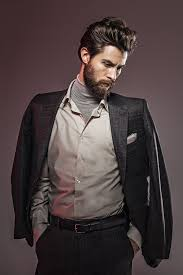F_W_suit jacket: (12, 89, 169, 258)
F_belt: (38, 206, 133, 236)
